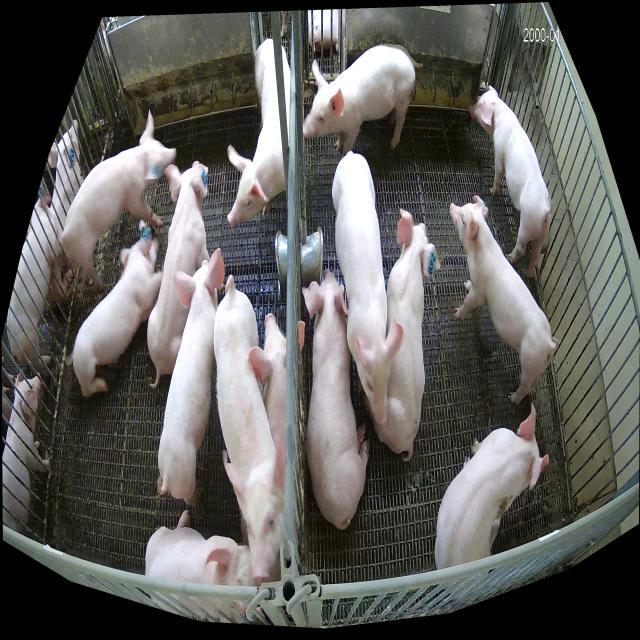pig: (450, 196, 559, 404), (214, 274, 285, 583), (62, 110, 176, 292), (434, 403, 549, 570), (332, 153, 402, 425), (302, 269, 370, 530), (158, 247, 226, 506), (240, 313, 304, 584), (72, 219, 163, 399), (376, 208, 440, 463), (470, 85, 553, 278), (148, 161, 209, 385), (303, 43, 416, 158), (227, 38, 291, 227), (145, 510, 255, 587)
